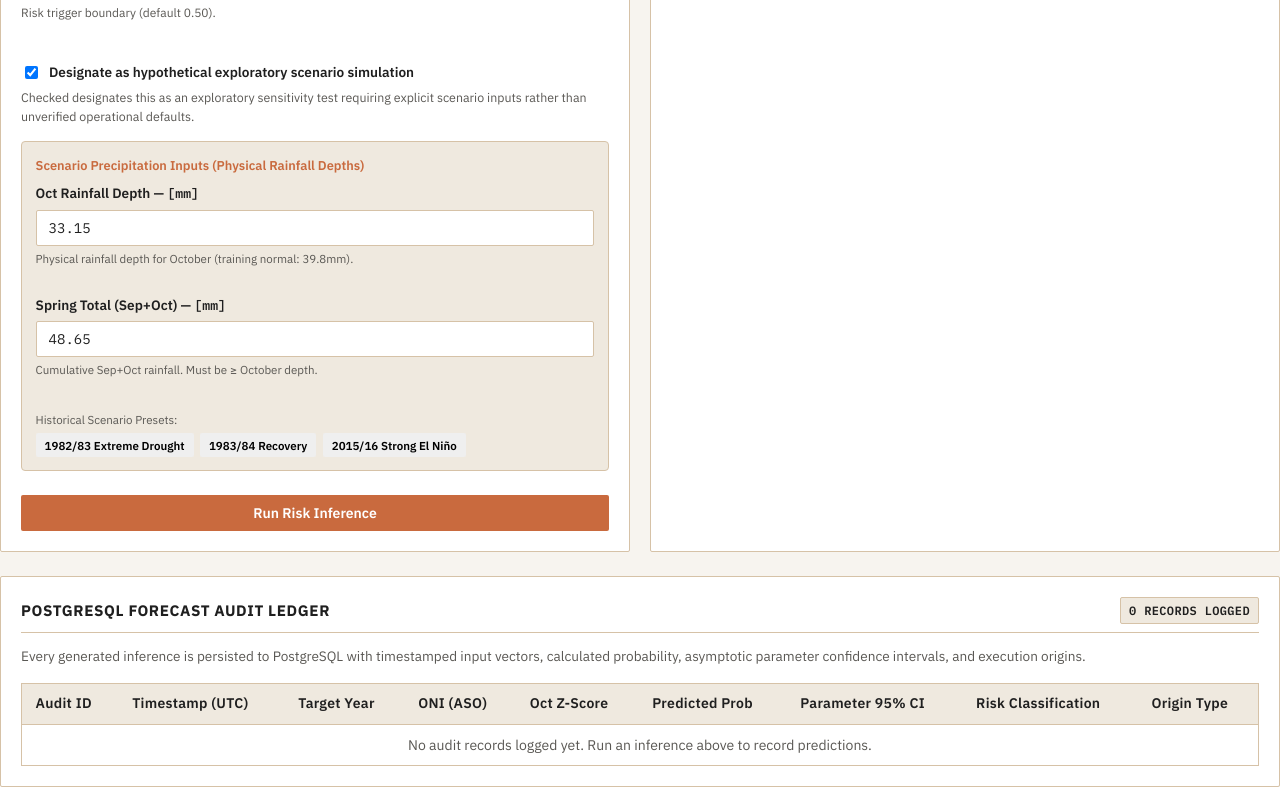
ForecastsView Scientific Integrity & Factor Audit › executes inference and renders factor contribution audit ledger and risk ratio
The image size is (1280, 787).
(page scrolled)
Click the button "Run Risk Inference". click: (315, 513)
box: x1=21 y1=495 x2=609 y2=531
(page scrolled)
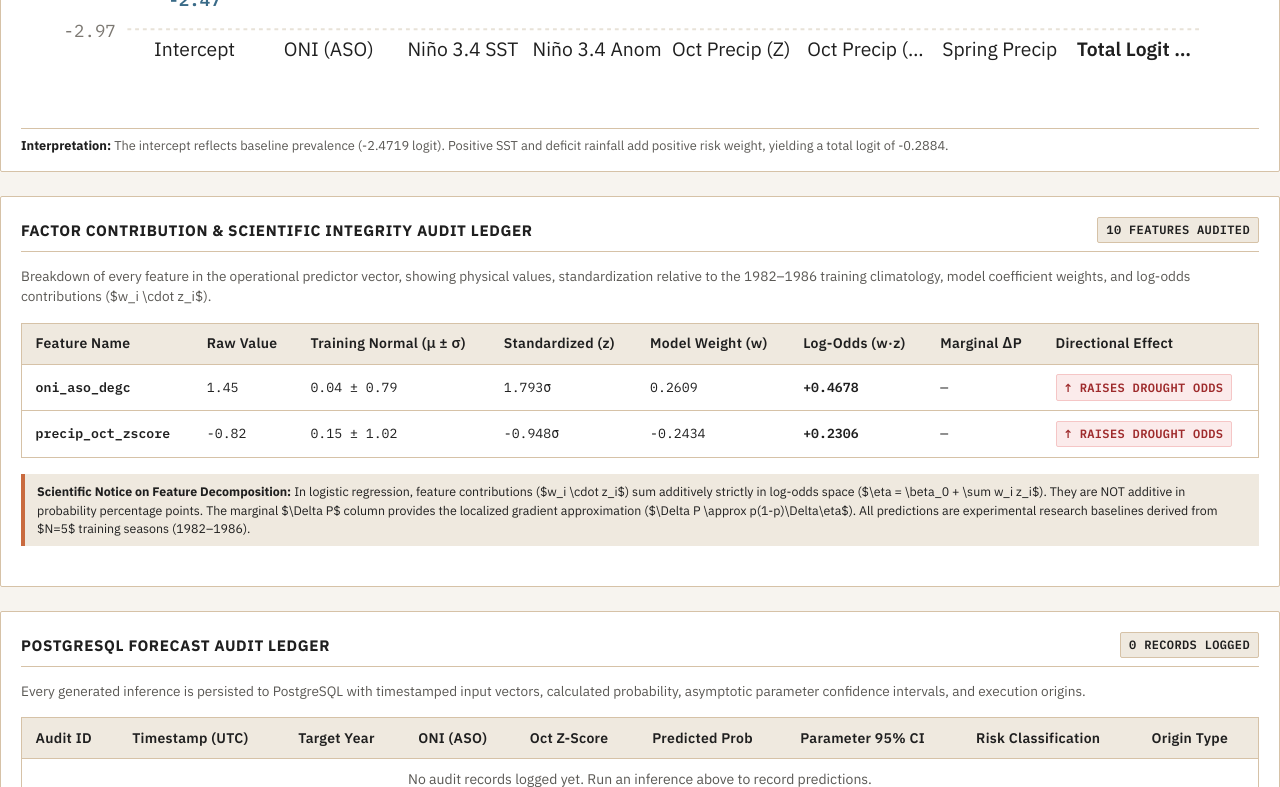
Result: the heading "Factor Contribution & Scientific Integrity Audit Ledger" is shown at x1=21 y1=219 x2=533 y2=242
Result: the text "oni_aso_degc" is shown at x1=22 y1=364 x2=193 y2=411
Result: the text "precip_oct_zscore" is shown at x1=22 y1=411 x2=193 y2=457
